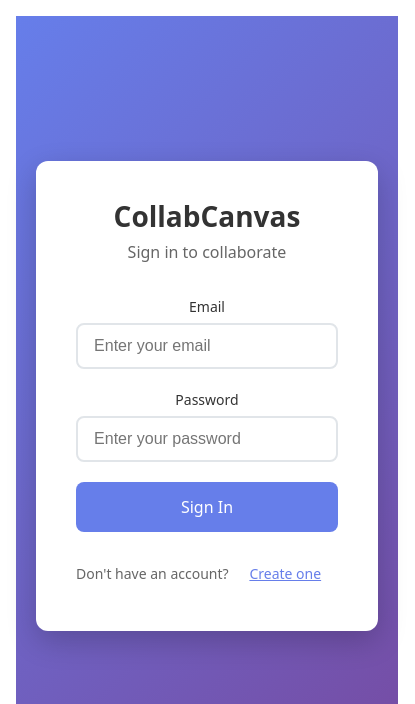
Test: AuthGate › should toggle to register form when clicking toggle button
What coordinates should you click on to do the following:
click the button "Create one"
I would click on:
 (285, 573)
Its box is [233, 556, 338, 591].
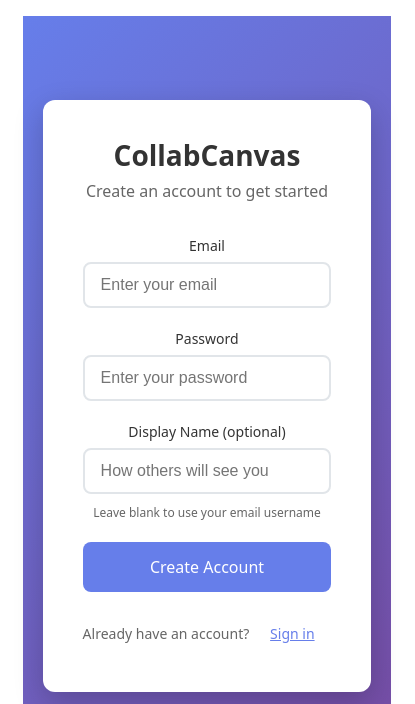
Expected: the text "Create an account to get started" is shown, [83, 179, 331, 203]
Expected: the field labelled "Display Name (optional)" is shown, [83, 448, 331, 494]
Expected: the button "Create Account" is shown, [83, 542, 331, 592]
